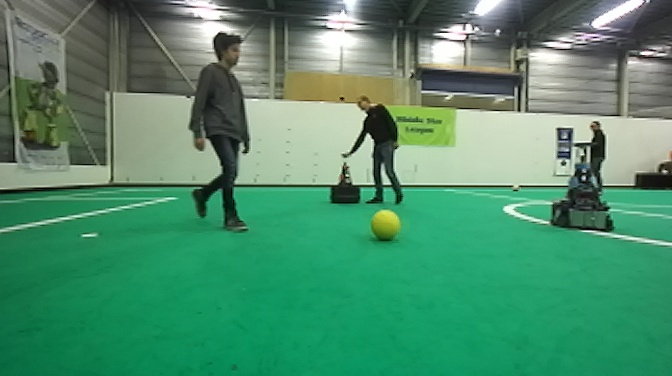ball: (369, 208, 402, 244), (509, 182, 521, 193)
human: (183, 28, 258, 237), (339, 94, 406, 207), (582, 118, 610, 191)
robot: (549, 139, 616, 232), (329, 152, 362, 206)
